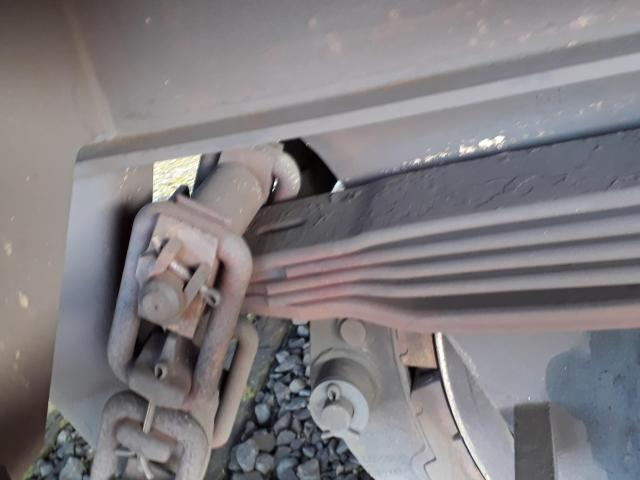blattfederww: (266, 196, 640, 323)
